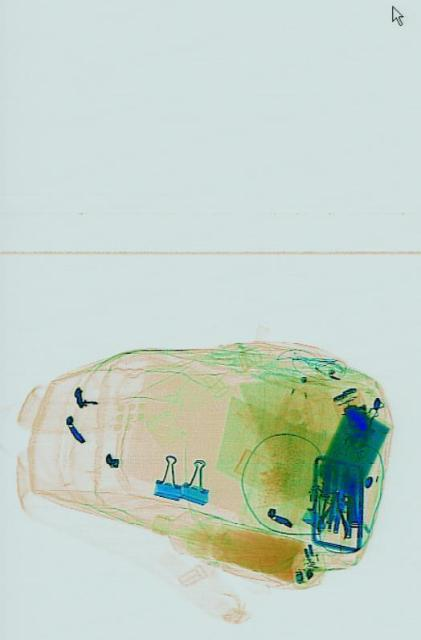Pliers: (312, 484, 350, 540)
